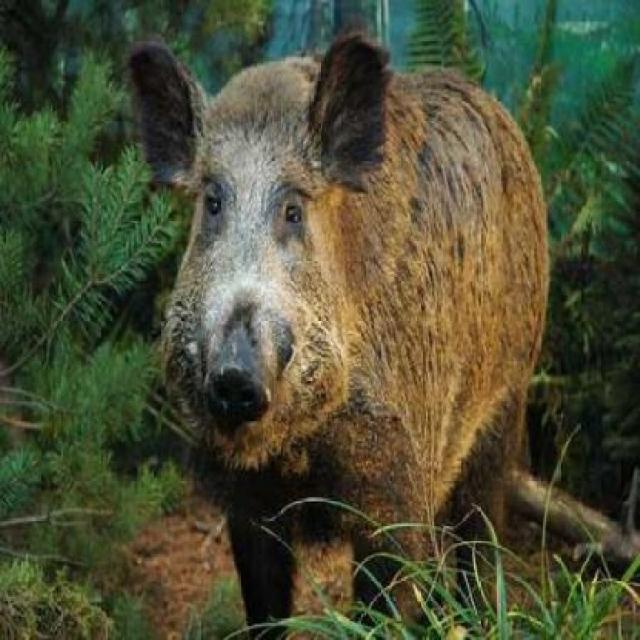pig: (81, 42, 592, 639)
